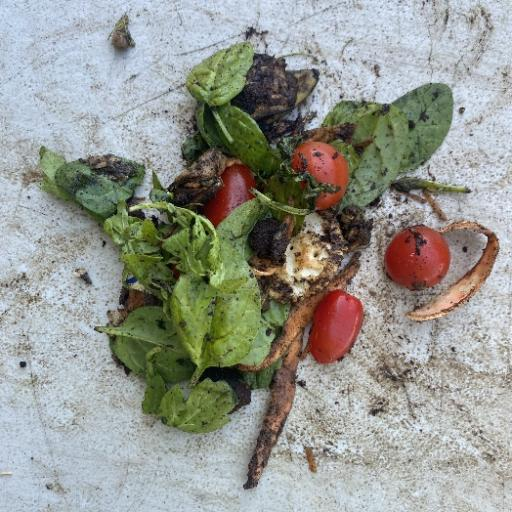Waste: (36, 39, 498, 491)
